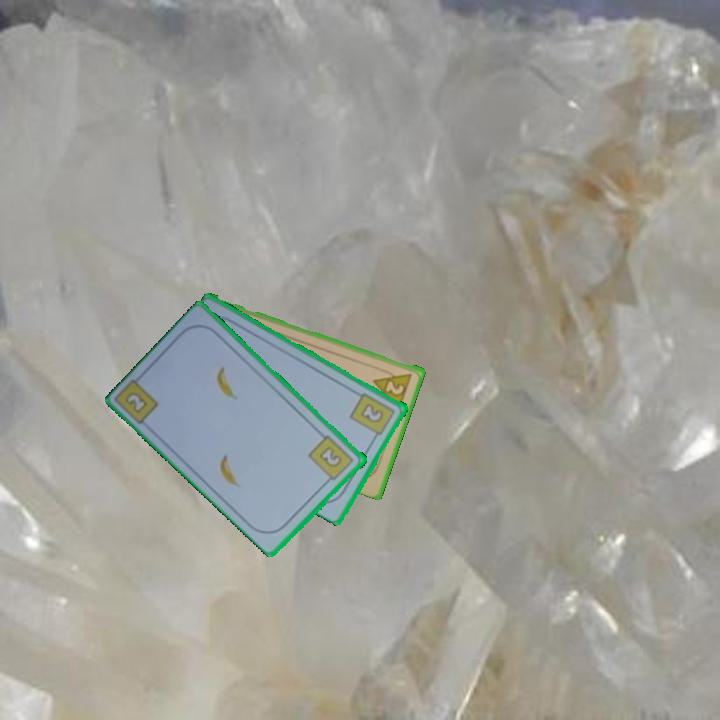2b: (305, 432, 357, 486), (347, 389, 398, 442), (124, 391, 148, 414)
2p: (370, 365, 416, 411)
